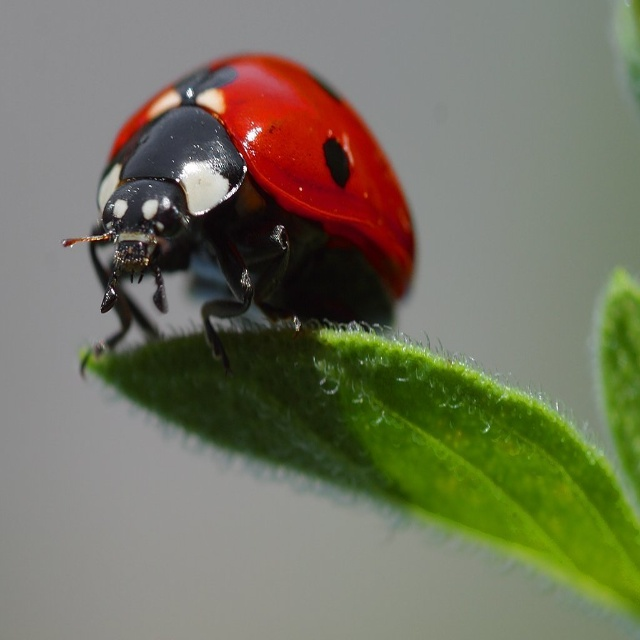Ladybug: (59, 54, 414, 375)
